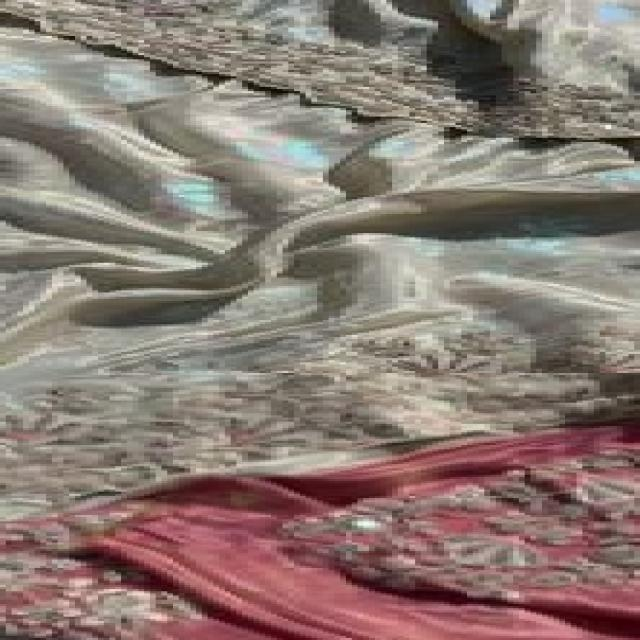Saree: (0, 373, 640, 640)
